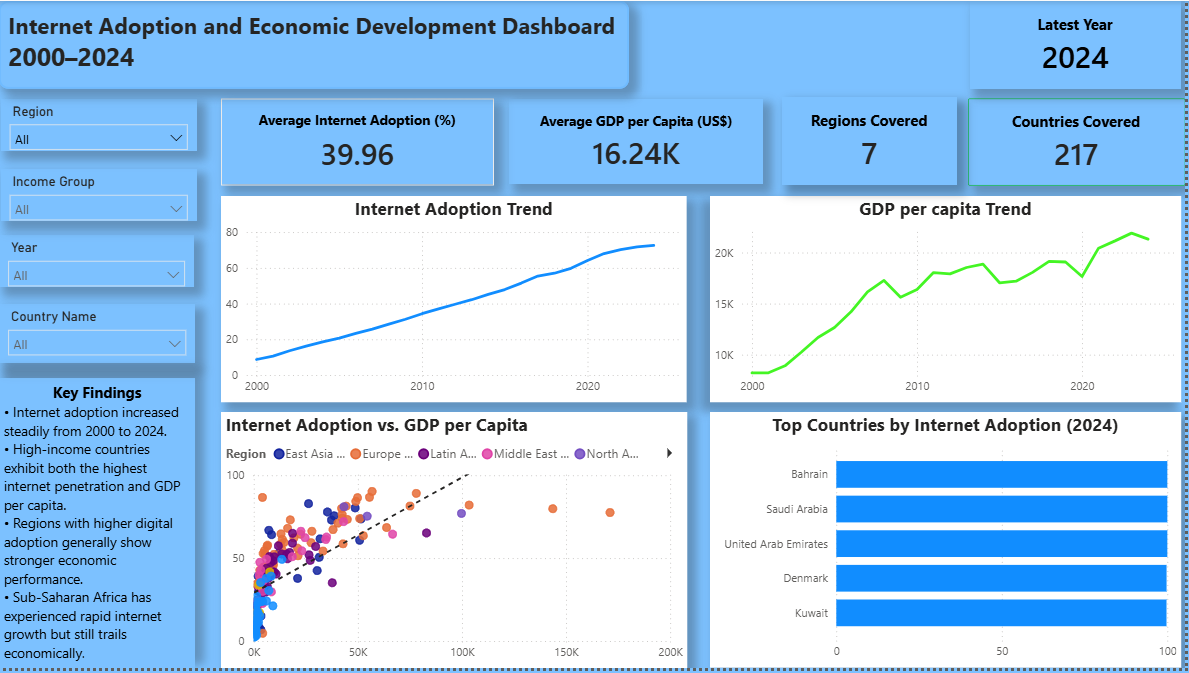

The page's visual inventory and layout, read from the dashboard file:
{"tool":"powerbi","page":{"name":"Page 1","canvas":[1280,720],"ordinal":0},"visuals":[{"type":"cardVisual","fields":{"Data":["Avg(WDI_Cleaned_Final.Individuals using the Internet (% of population))"]},"box":[240,105.8,294.8,92.6],"z":0},{"type":"cardVisual","fields":{"Data":["Avg(WDI_Cleaned_Final.GDP per capita (current US$))"]},"box":[549.9,105.8,274,92.6],"z":1000},{"type":"cardVisual","fields":{"Data":["Count(WDI_Cleaned_Final.Country Name)"]},"box":[1046,105.2,234.8,93.9],"z":2000},{"type":"cardVisual","fields":{"Data":["Max(WDI_Cleaned_Final.Year)"]},"box":[1046.9,0,228.7,94.5],"z":3000},{"type":"lineChart","title":"GDP per capita Trend","fields":{"Category":["WDI_Cleaned_Final.Year"],"Y":["Avg(WDI_Cleaned_Final.GDP per capita (current US$))"]},"box":[767.2,209.8,508.4,223],"z":4000},{"type":"lineChart","title":"Internet Adoption Trend","fields":{"Category":["WDI_Cleaned_Final.Year"],"Y":["Avg(WDI_Cleaned_Final.Individuals using the Internet (% of population))"]},"box":[240,209.8,502.7,223],"z":5000},{"type":"slicer","fields":{"Values":["WDI_Cleaned_Final.Country Name"]},"box":[0,327.1,212.1,63.1],"z":6000},{"type":"scatterChart","title":"Internet Adoption vs. GDP per Capita","fields":{"Y":["WDI_Cleaned_Final.Individuals using the Internet (% of population)"],"X":["Avg(WDI_Cleaned_Final.GDP per capita (current US$))"],"Series":["WDI_Cleaned_Final.Region"],"Category":["WDI_Cleaned_Final.Country Name"]},"box":[239.6,443.7,503.6,276.9],"z":7000},{"type":"slicer","fields":{"Values":["WDI_Cleaned_Final.Year"]},"box":[0,252.6,210.5,56.7],"z":8000},{"type":"slicer","fields":{"Values":["WDI_Cleaned_Final.Income Group"]},"box":[1.6,181.4,212.1,56.7],"z":9000},{"type":"slicer","fields":{"Values":["WDI_Cleaned_Final.Region"]},"box":[1.6,105.2,212.1,56.7],"z":10000},{"type":"cardVisual","fields":{"Data":["Count(WDI_Cleaned_Final.Region)"]},"box":[844.7,103.9,189,94.5],"z":11000},{"type":"clusteredBarChart","title":"Top Countries by Internet Adoption (2024)","fields":{"Category":["WDI_Cleaned_Final.Country Name"],"Y":["Avg(WDI_Cleaned_Final.Individuals using the Internet (% of population))"]},"box":[767.2,444.1,508.4,275.9],"z":12000},{"type":"textbox","box":[0,0,680.3,94.5],"z":13000},{"type":"textbox","box":[0,406.3,211.7,313.7],"z":14000}]}

Visuals, with their boxes in screenshot pixels (x1, y1, x2, y2), scaled from the page's 1280x720 canvas onto the 1189x673 screenshot:
cardVisual - Avg(WDI_Cleaned_Final.Individuals using the Internet (% of population)): [223, 99, 497, 185]
cardVisual - Avg(WDI_Cleaned_Final.GDP per capita (current US$)): [511, 99, 765, 185]
cardVisual - Count(WDI_Cleaned_Final.Country Name): [972, 98, 1188, 186]
cardVisual - Max(WDI_Cleaned_Final.Year): [972, 0, 1185, 88]
"GDP per capita Trend" lineChart: [713, 196, 1185, 405]
"Internet Adoption Trend" lineChart: [223, 196, 690, 405]
slicer - WDI_Cleaned_Final.Country Name: [0, 306, 197, 365]
"Internet Adoption vs. GDP per Capita" scatterChart: [223, 415, 690, 672]
slicer - WDI_Cleaned_Final.Year: [0, 236, 196, 289]
slicer - WDI_Cleaned_Final.Income Group: [1, 170, 199, 223]
slicer - WDI_Cleaned_Final.Region: [1, 98, 199, 151]
cardVisual - Count(WDI_Cleaned_Final.Region): [785, 97, 960, 185]
"Top Countries by Internet Adoption (2024)" clusteredBarChart: [713, 415, 1185, 672]
textbox: [0, 0, 632, 88]
textbox: [0, 380, 197, 672]
